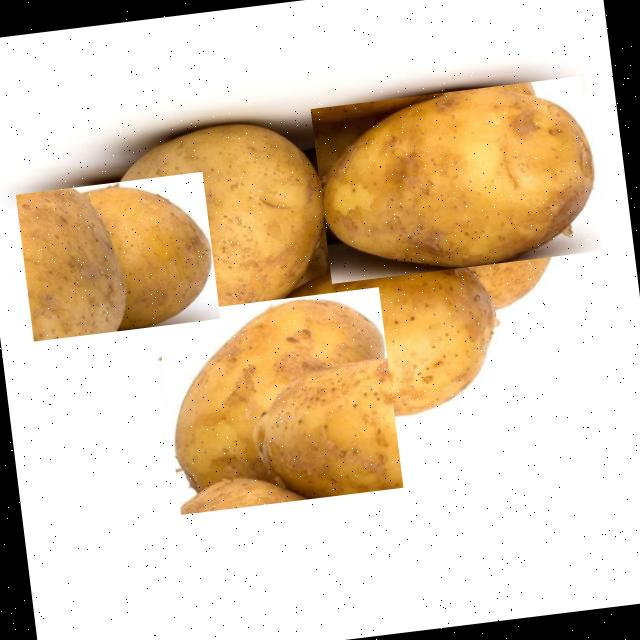Potato: (268, 119, 560, 337), (310, 75, 602, 284), (156, 286, 403, 514), (100, 112, 336, 347), (231, 250, 507, 434), (15, 171, 220, 341)
